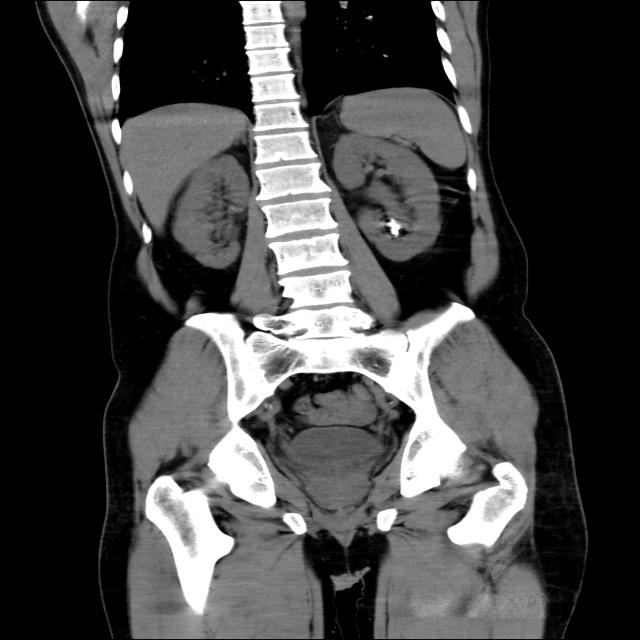kidneystone: (385, 218, 402, 238)
